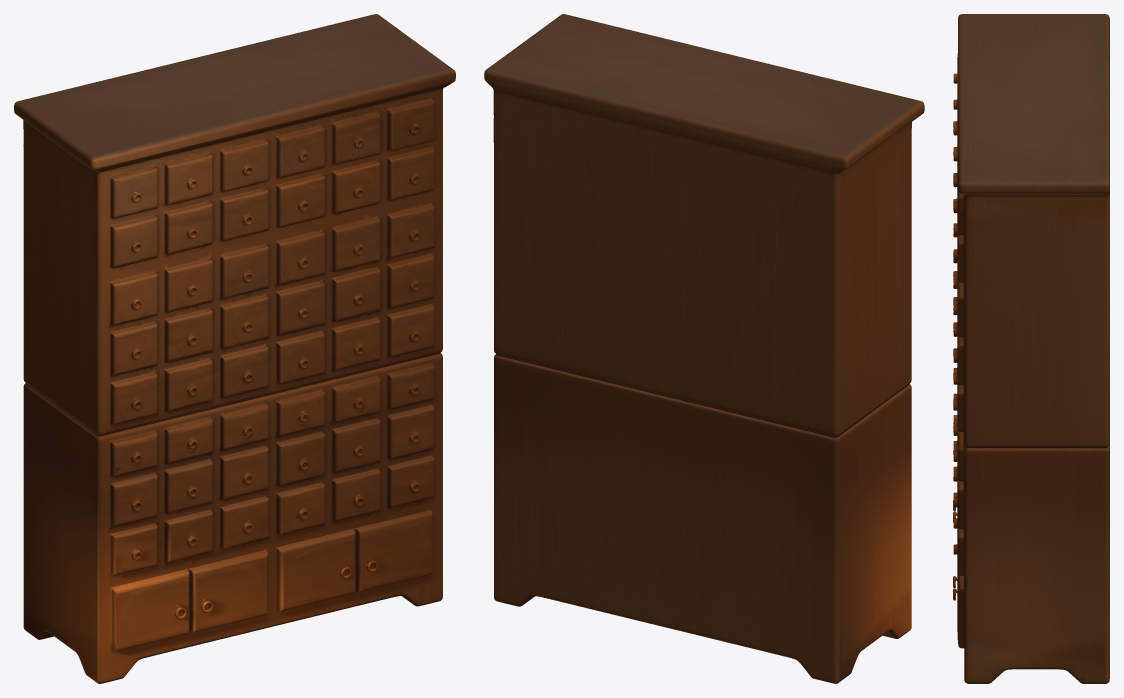
Rendered from Meshy_AI_Apothecary_cabinet_0312061044_texture.fbx.
3 renders of one model, left to right at view 1: azimuth 30°, elevation 25°; view 2: azimuth 150°, elevation 25°; view 3: azimuth 270°, elevation 25°, orthographic. The views are drawn at different scales.
Parts seen in each view (by area): view 1: Mesh_0; view 2: Mesh_0; view 3: Mesh_0.
Boxes of the visible parts, <box> form: Mesh_0: <box>14,14,455,683</box>; Mesh_0: <box>484,14,924,683</box>; Mesh_0: <box>953,14,1109,683</box>.
Size of the model in its own units: 137 by 190 by 53.22.
1 material, 1 textured.
